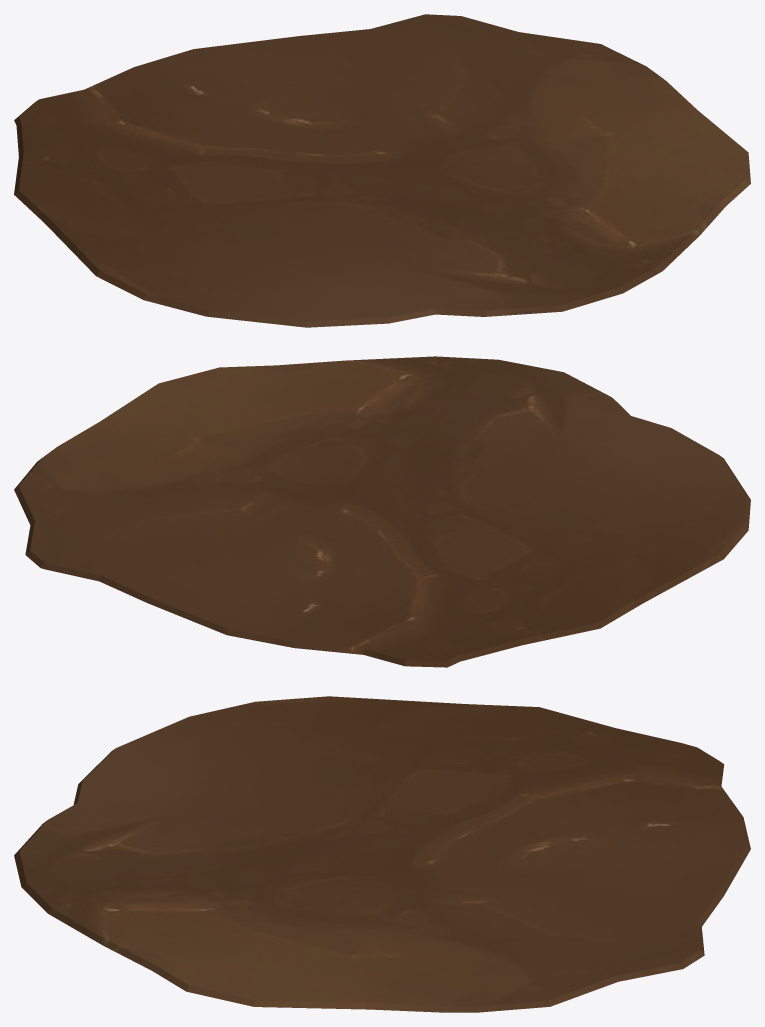
File: mud.fbx
The picture shows the model from 3 angles, top to bottom: view 1: azimuth 30°, elevation 25°; view 2: azimuth 150°, elevation 25°; view 3: azimuth 270°, elevation 25°; orthographic projection. The views are drawn at different scales.
Parts seen in each view (by area): view 1: Cylinder; view 2: Cylinder; view 3: Cylinder.
Part boxes in pixels (<box>): Cylinder: <box>14,14,750,327</box>; Cylinder: <box>14,356,750,667</box>; Cylinder: <box>14,696,750,1012</box>.
Size of the model in its own units: 383 by 4.68 by 380.
